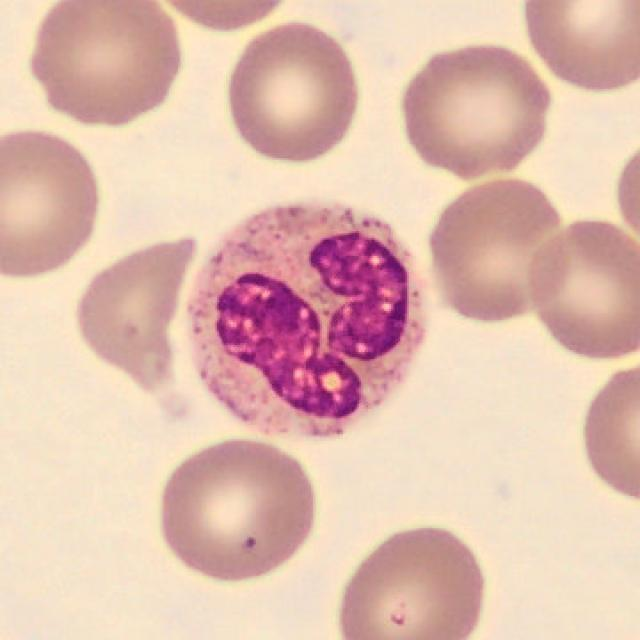Neutrofilo segmentado: (190, 208, 421, 432)
